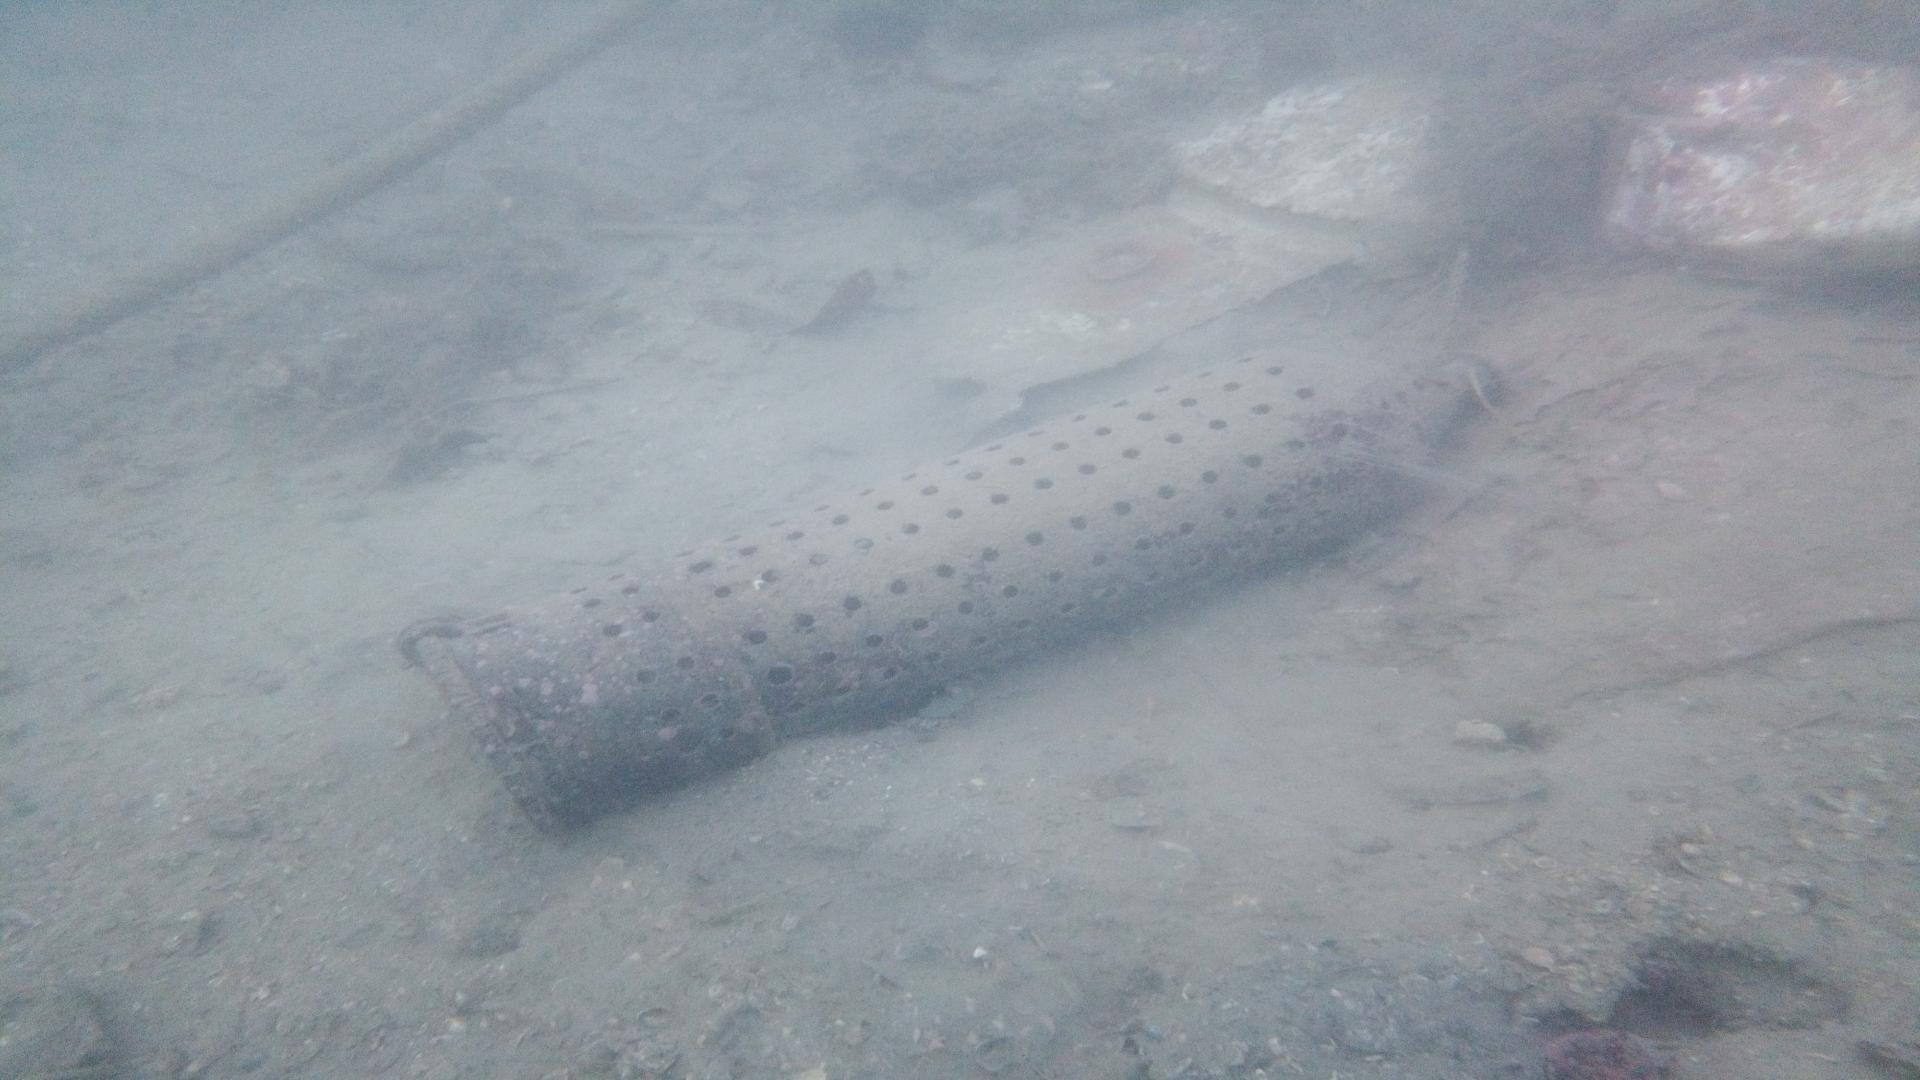eel fish trap: (393, 328, 1509, 836)
